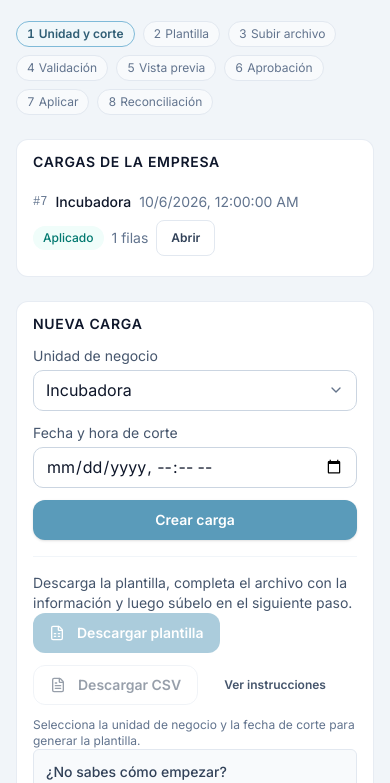
it: SPEC 006 · Cargas Iniciales v2 (jsdom) › RC-5: lista las cargas de la empresa y abre una existente (persistencia visible)
The width and height of the screenshot is (390, 783).
Expected: the list with test id "cutover-batch-list" shows "#7", [33,193,299,256]
Expected: the list with test id "cutover-batch-list" shows "Incubadora", [55,193,131,210]
Click the button "Abrir" at (186, 238), box [156,220,215,256]
(page scrolled)
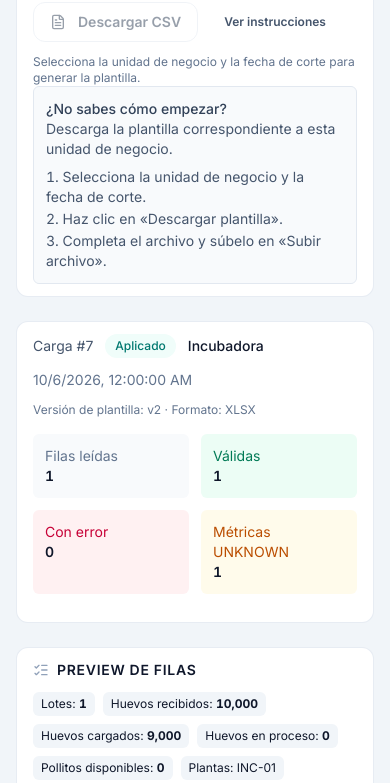
Result: the element with test id "cutover-batch-header" shows "#7" at [33,334,264,417]
Result: the element with test id "cutover-batch-header" shows "Aplicado" at [115,338,166,353]
Result: the element with test id "cutover-batch-header" shows "v2" at [147,402,161,417]
